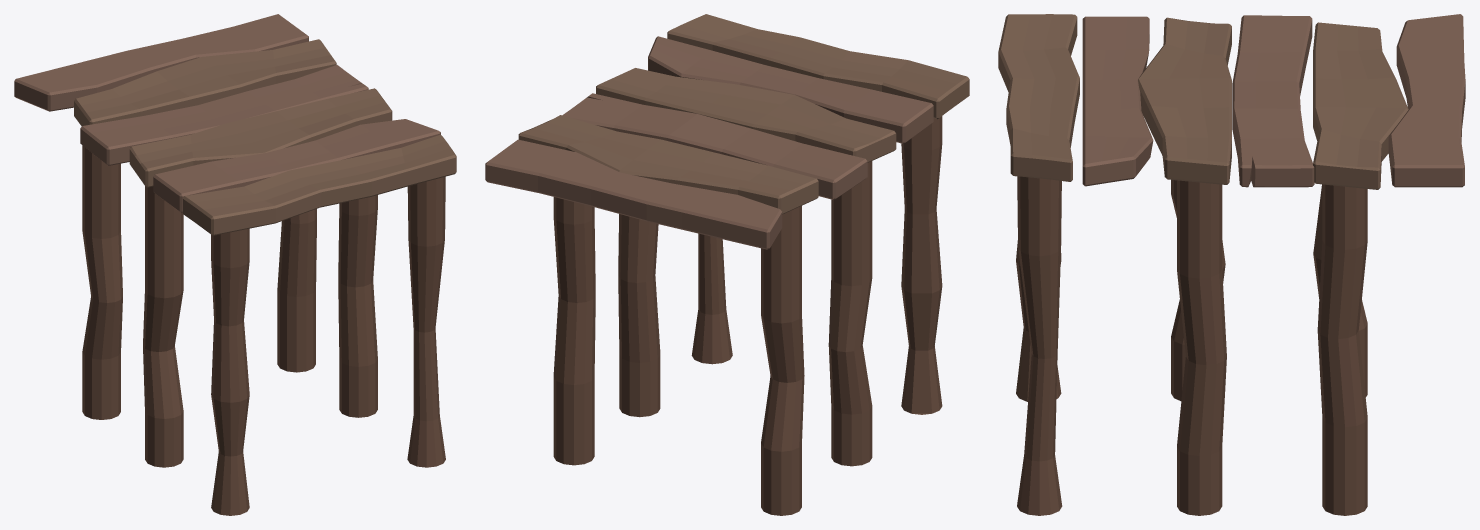
The model's file is Porto.fbx.
The picture shows the model from 3 angles, left to right: view 1: azimuth 30°, elevation 25°; view 2: azimuth 150°, elevation 25°; view 3: azimuth 270°, elevation 25°; orthographic projection. The views are drawn at different scales.
Parts seen in each view (by area): view 1: Tabua1.001; view 2: Tabua1.001; view 3: Tabua1.001.
Part boxes in pixels (x1,y1,x2,y2): Tabua1.001: (14, 14, 456, 515); Tabua1.001: (485, 14, 969, 515); Tabua1.001: (998, 14, 1465, 515).
Size of the model in its own units: 210 by 228 by 266.
